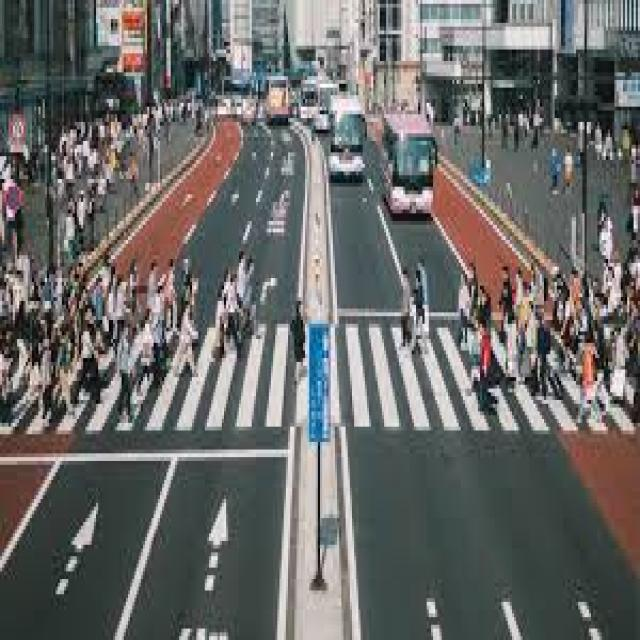Buses: (382, 111, 437, 217), (326, 95, 365, 179)
Pedestrians: (290, 297, 307, 389)
